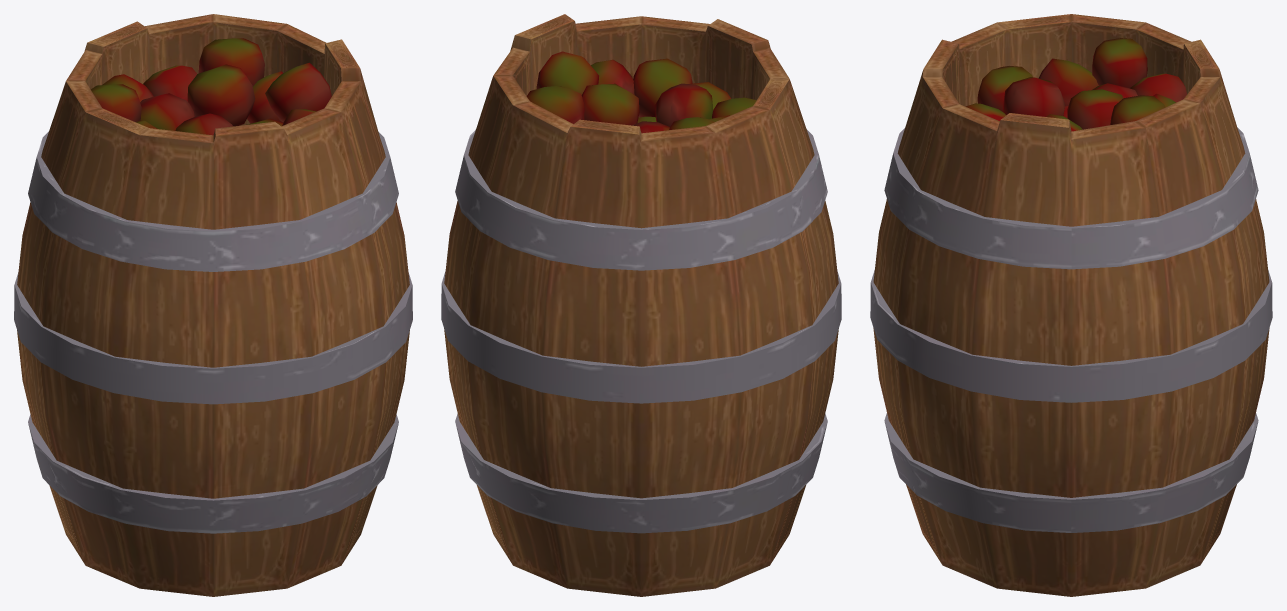
The model's file is barrel_apples.glb.
3 renders of one model, left to right at view 1: azimuth 30°, elevation 25°; view 2: azimuth 150°, elevation 25°; view 3: azimuth 270°, elevation 25°, orthographic.
Visible parts, largest first — view 1: Barrel_Apples; view 2: Barrel_Apples; view 3: Barrel_Apples.
Boxes of the visible parts, x1=… form: Barrel_Apples: x1=14, y1=14, x2=412, y2=596; Barrel_Apples: x1=441, y1=14, x2=841, y2=596; Barrel_Apples: x1=870, y1=14, x2=1272, y2=596.
Size of the model in its own units: 0.698 by 0.898 by 0.698.
3 materials, 3 textured.
